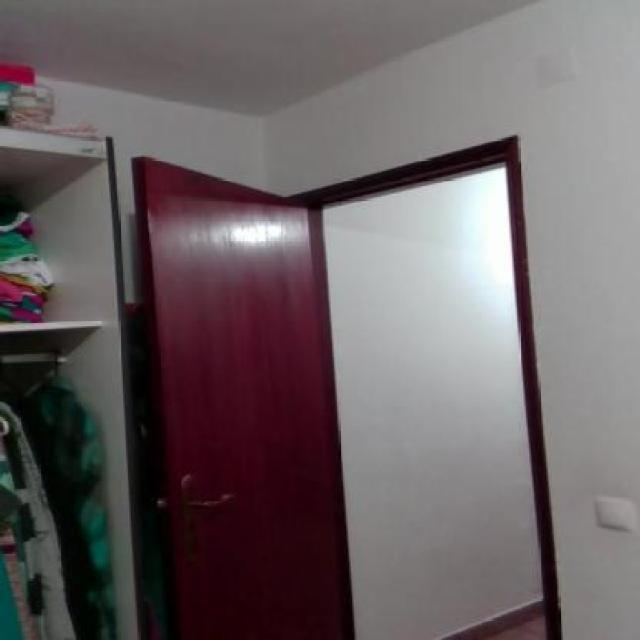door: (124, 131, 562, 640)
